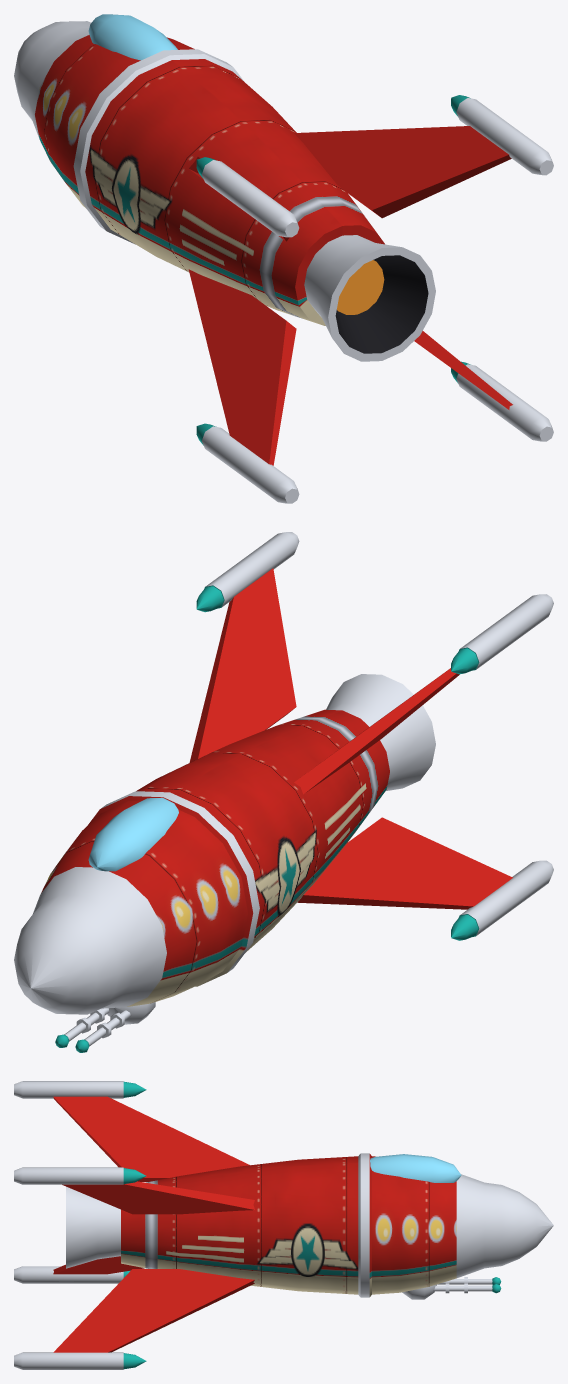
File: thunderbolt.obj
3 views of the same model, one above another, from view 1: azimuth 30°, elevation 25°; view 2: azimuth 150°, elevation 25°; view 3: azimuth 270°, elevation 25° (orthographic). The views are drawn at different scales.
Visible parts, largest first — view 1: hull, bell, fin45, fin225, finpod, canopy, fin135; view 2: hull, fin225, fin45, finpod, bell, canopy, fin315, chin; view 3: hull, fin135, finpod, fin315, fin45, bell, canopy, fin225, chin.
Part boxes in pixels (x1,y1,x2,y2): hull: (14,21,384,325); bell: (304,235,435,361); fin45: (294,126,511,218); fin225: (188,269,296,465); finpod: (196,95,553,503); canopy: (88,14,177,60); fin135: (414,331,512,409); hull: (14,709,389,1014); fin225: (297,817,512,909); fin45: (189,568,296,762); finpod: (196,532,553,940); bell: (326,674,435,790); canopy: (88,798,178,871); fin315: (294,668,459,794); chin: (64,1008,131,1046); hull: (121,1153,553,1297); fin135: (53,1269,254,1352); finpod: (14,1081,146,1369); fin315: (53,1096,249,1181); fin45: (62,1181,254,1214); bell: (66,1186,120,1268); canopy: (370,1154,461,1182); fin225: (53,1256,144,1274); chin: (433,1279,492,1291).
Bounding box in the file's own units: 7.71 × 7.71 × 18.7.
7 materials, 1 textured.
